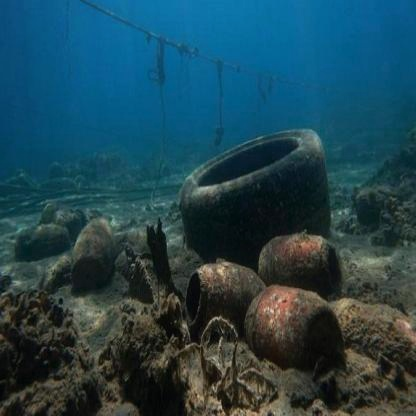metal: (239, 288, 349, 368), (253, 226, 346, 289), (190, 254, 270, 326), (70, 215, 113, 281), (15, 222, 75, 260)
net: (75, 1, 398, 118)
tire: (171, 122, 337, 247)
